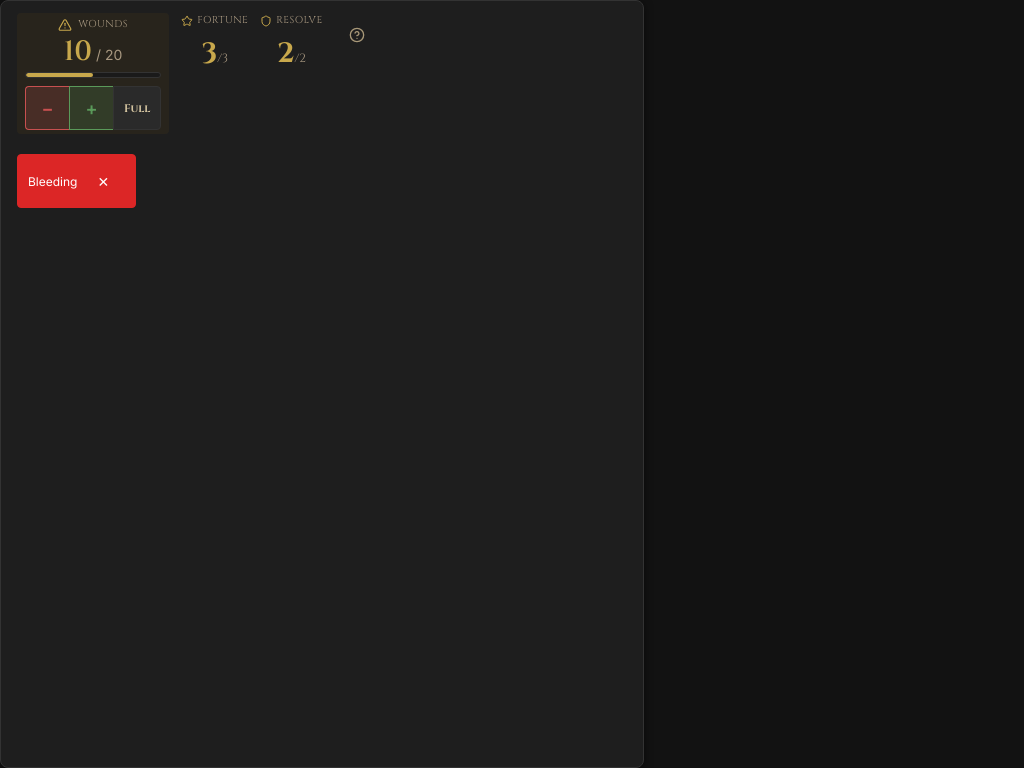
Test: CombatDashboard — Condition Badges › opens tooltip when condition badge is tapped
Click the button with aria-label "Info for Bleeding".
click(53, 181)  # box [28, 159, 78, 203]
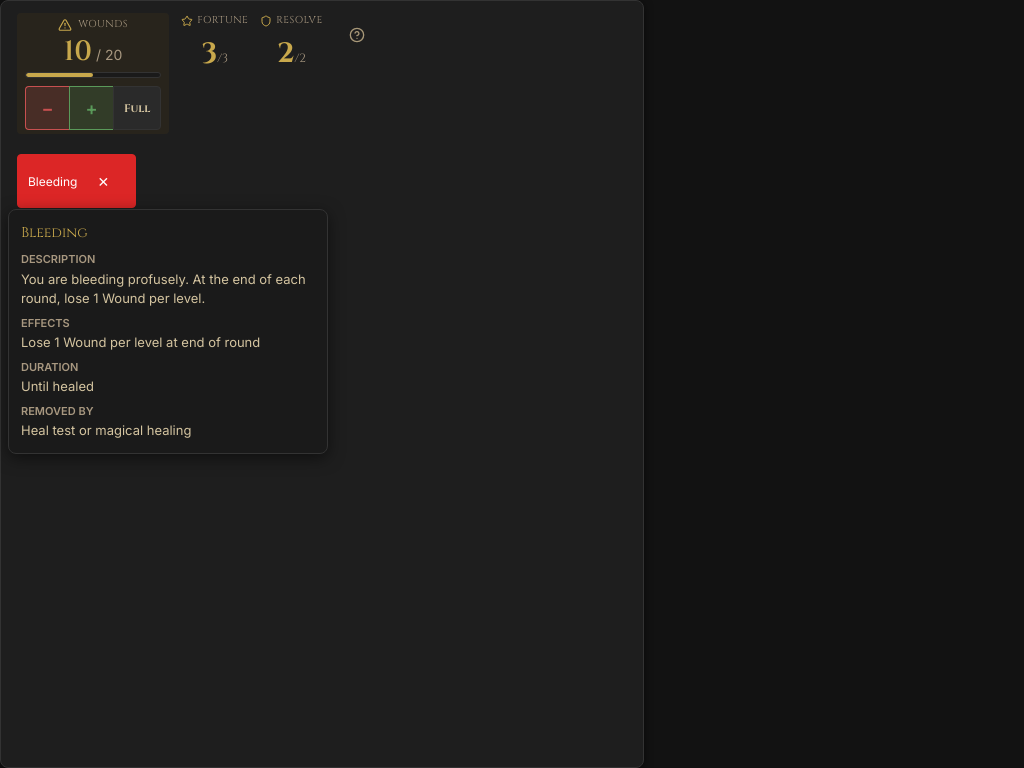
Expected: the tooltip is shown, [8, 209, 328, 454]
Expected: the tooltip shows "Bleeding", [21, 223, 88, 242]
